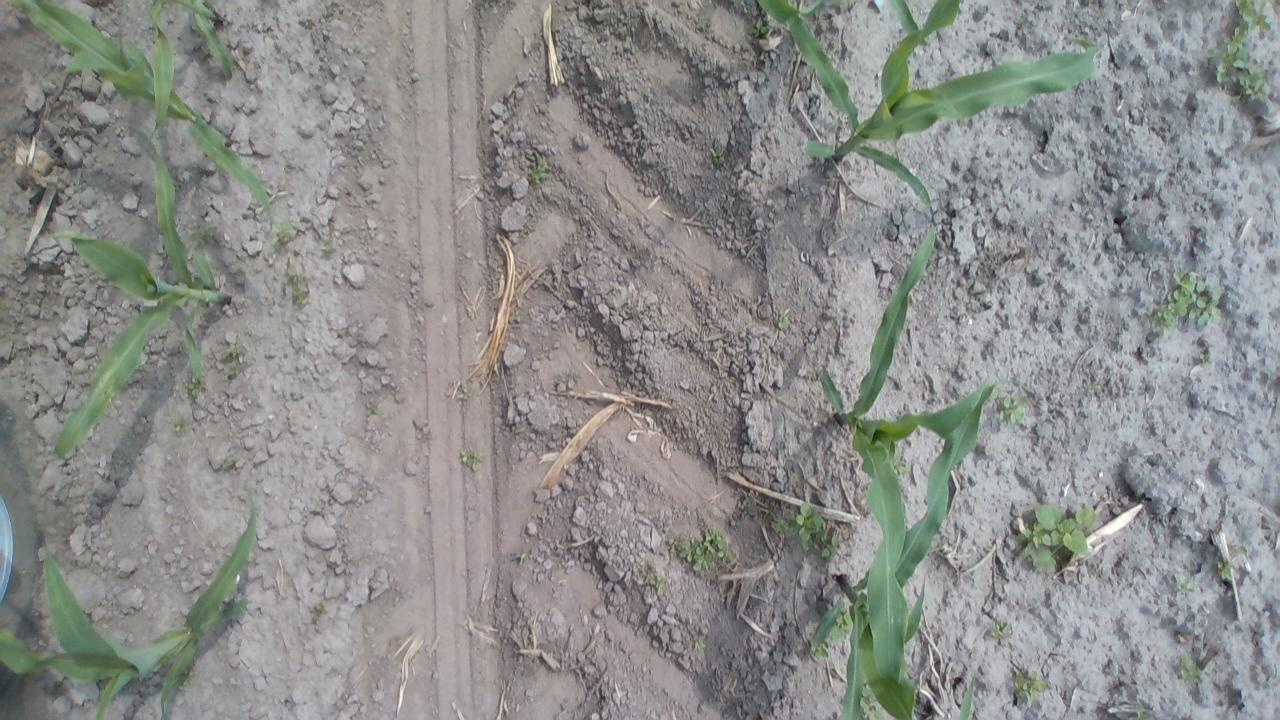Maize: (819, 219, 994, 720), (751, 1, 1102, 214), (42, 113, 237, 461), (0, 483, 272, 720), (14, 4, 283, 222), (834, 389, 1000, 720), (148, 0, 235, 145), (797, 0, 933, 49)
Weeds: (1201, 0, 1274, 104), (1014, 500, 1100, 574), (1149, 268, 1227, 338), (666, 524, 740, 575), (794, 502, 839, 559), (1009, 666, 1052, 702), (281, 264, 312, 308), (854, 682, 888, 719), (636, 560, 666, 600), (993, 393, 1027, 427), (1175, 654, 1208, 684), (189, 219, 219, 249), (832, 606, 855, 644), (528, 150, 551, 187), (459, 445, 488, 472), (806, 636, 834, 662), (268, 220, 295, 246), (184, 372, 206, 400), (174, 666, 197, 692), (989, 620, 1015, 642), (746, 494, 768, 520), (1217, 558, 1240, 581), (770, 306, 790, 332), (220, 344, 245, 364), (318, 236, 341, 256), (771, 516, 794, 535), (1176, 572, 1196, 593), (554, 369, 578, 386), (222, 359, 242, 379), (221, 453, 242, 472), (706, 144, 724, 166), (1127, 707, 1157, 720), (893, 456, 909, 480), (751, 20, 770, 40), (172, 418, 192, 434), (310, 600, 326, 620), (1198, 350, 1215, 367), (513, 549, 531, 564), (458, 386, 474, 402), (364, 402, 382, 416), (694, 636, 709, 651), (1089, 384, 1101, 393), (1238, 544, 1248, 554), (745, 712, 757, 720)
